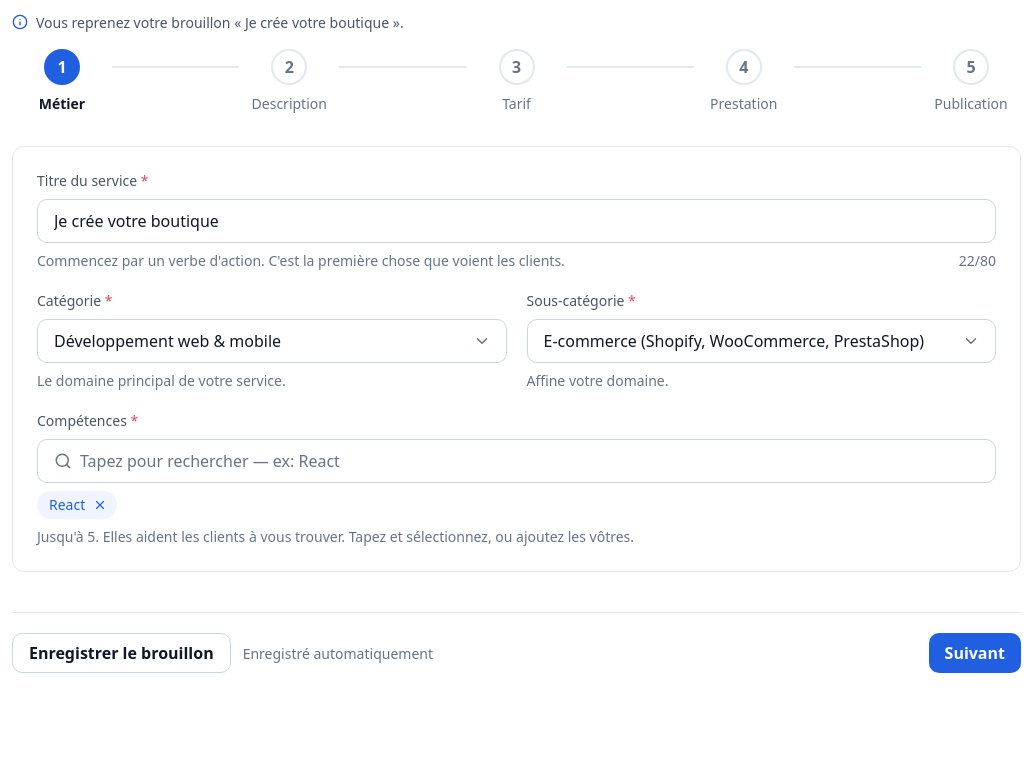
Test: H6 wizard › shows a refused save as the translated error, in the live caption
Replace the text in the field labelled "Titre du service *" with "Je crée votre boutique en ligne" at (516, 221), box [54,209,979,233]
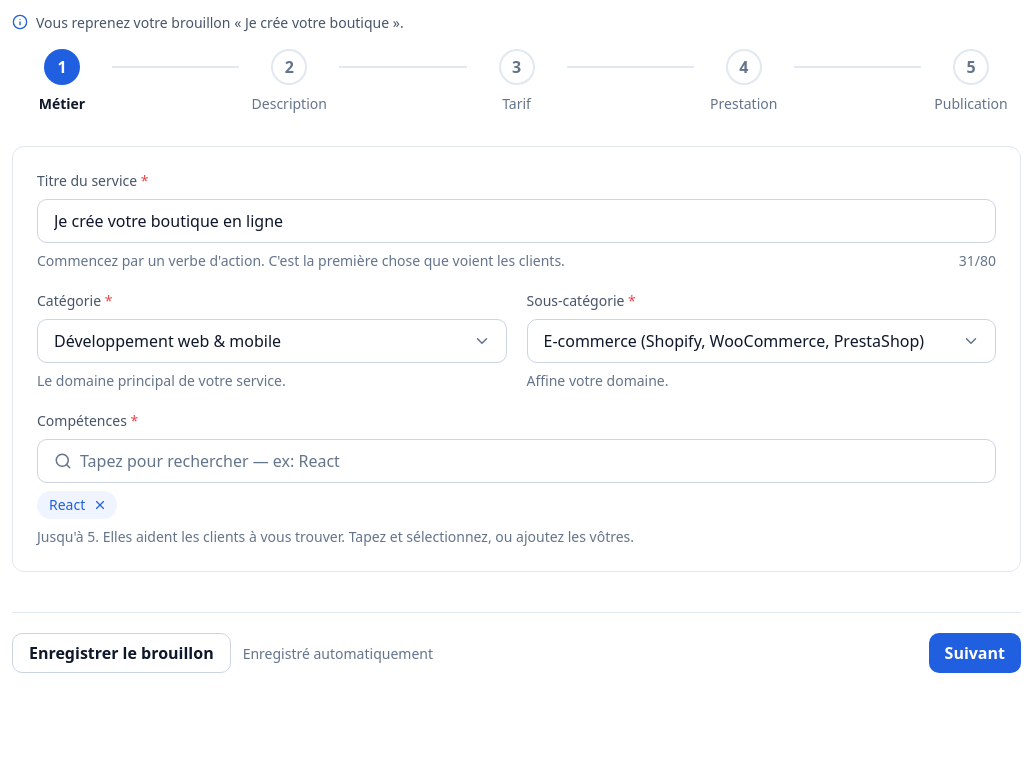
Click the button "Enregistrer le brouillon" at (121, 653), box [12,633,231,673]
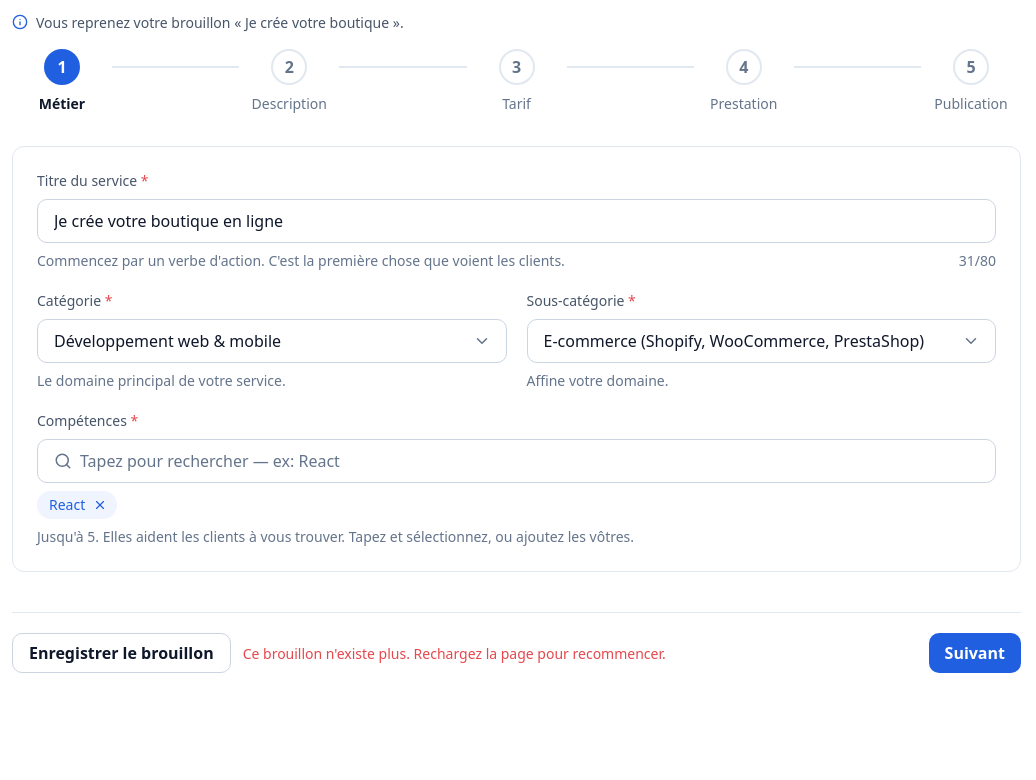
Expected: the message reads "Ce brouillon n'existe plus. Rechargez la page pour recommencer.", [243,644,666,662]
